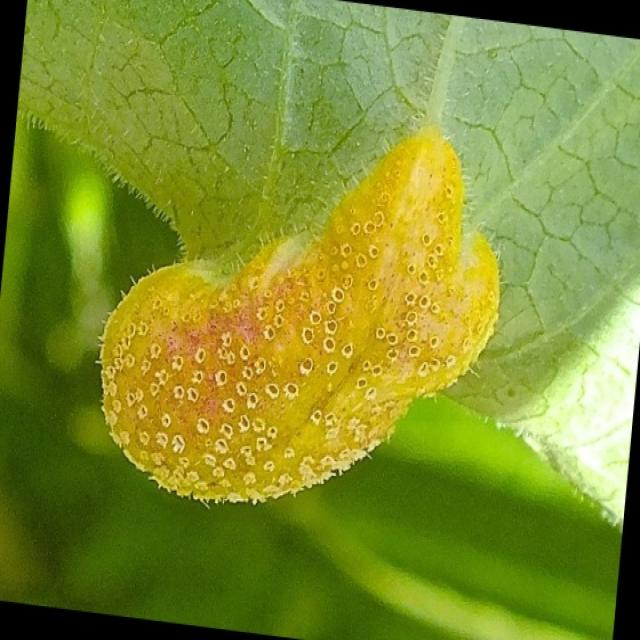Elderberry_rust: (90, 144, 529, 518)
